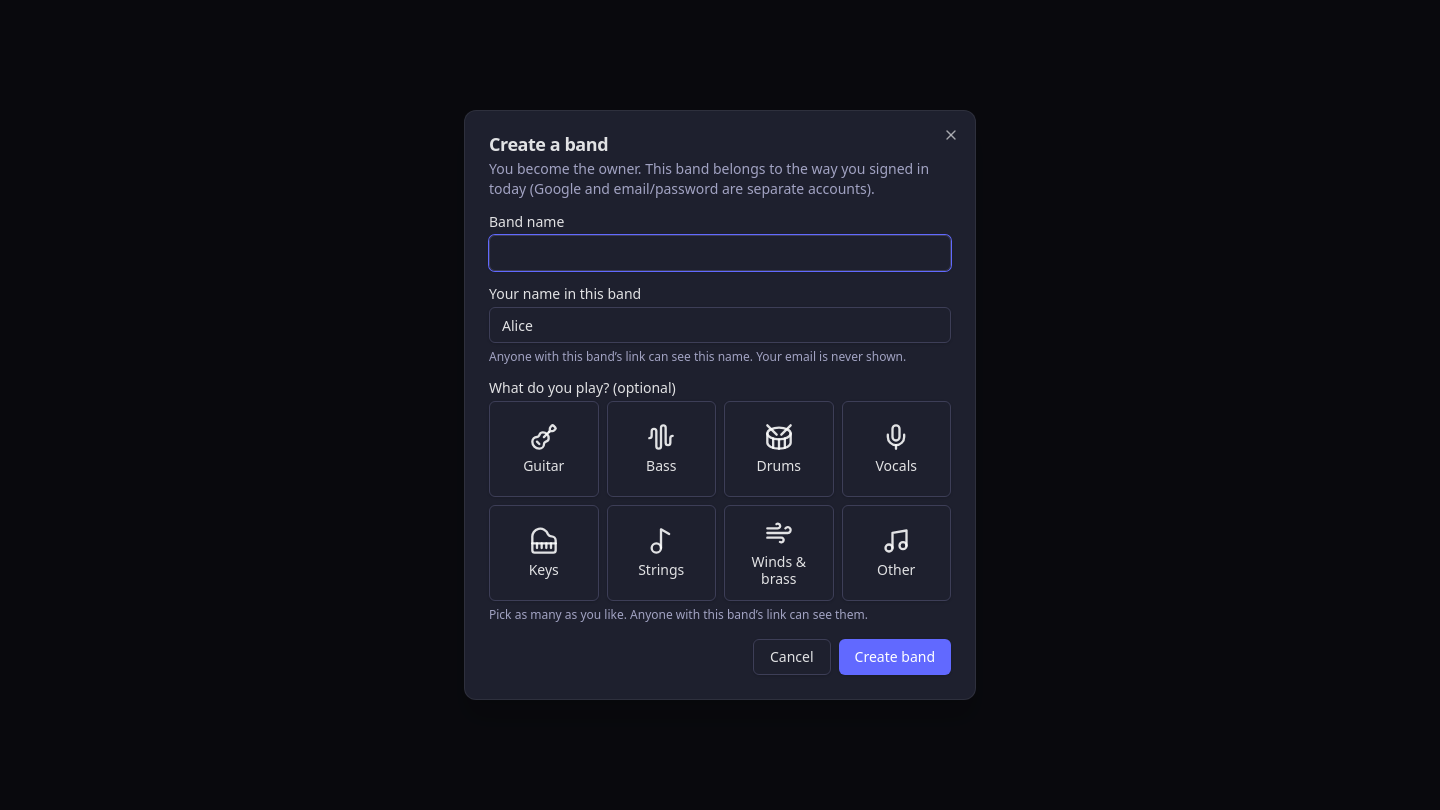
Scenario: CreateBandDialog › shows the failure inline and neither closes nor reports a band
Type "Another" into the field labelled "Band name" at x=720, y=253, box [489,235,951,271]
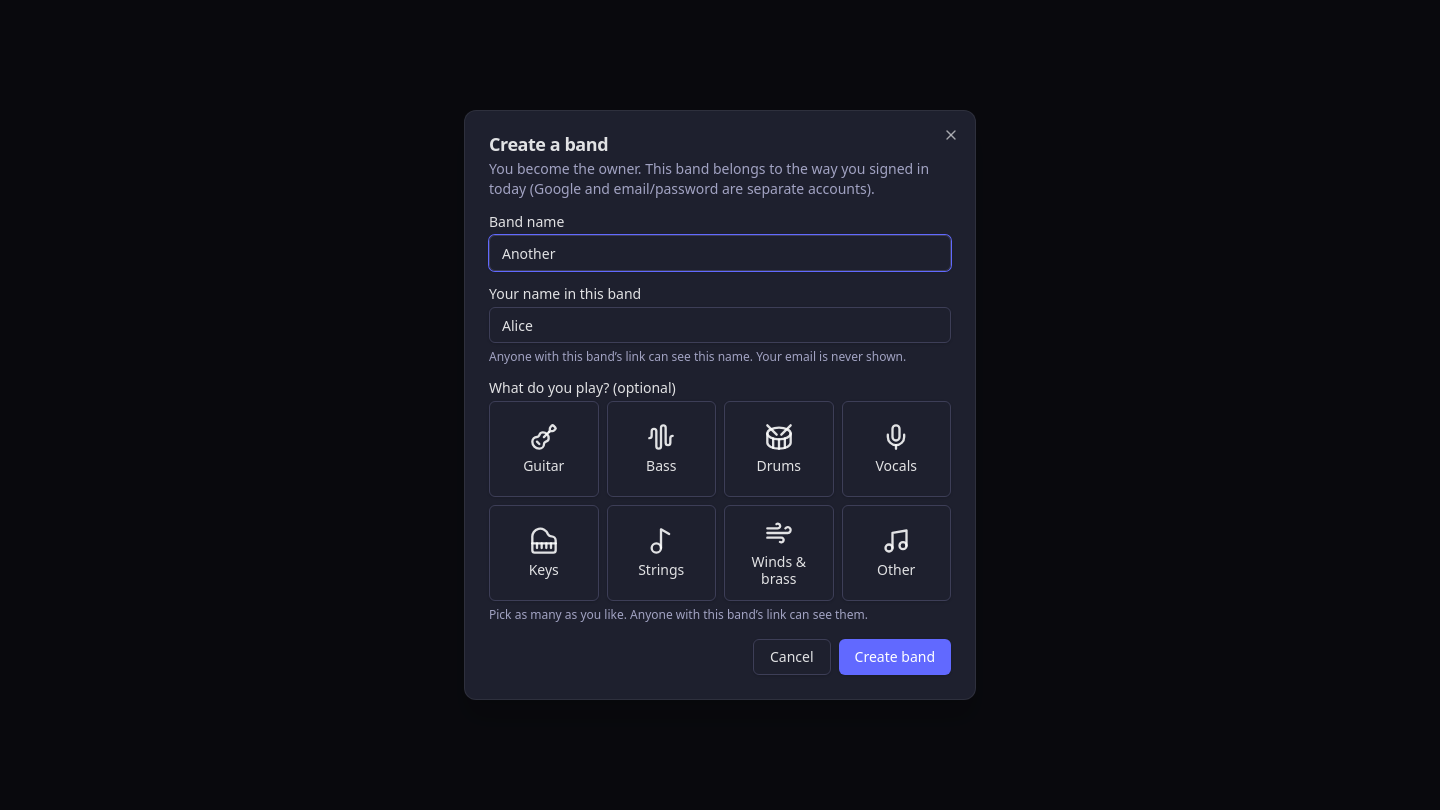
Click the button "Create band" at x=895, y=657, box [839,639,951,675]
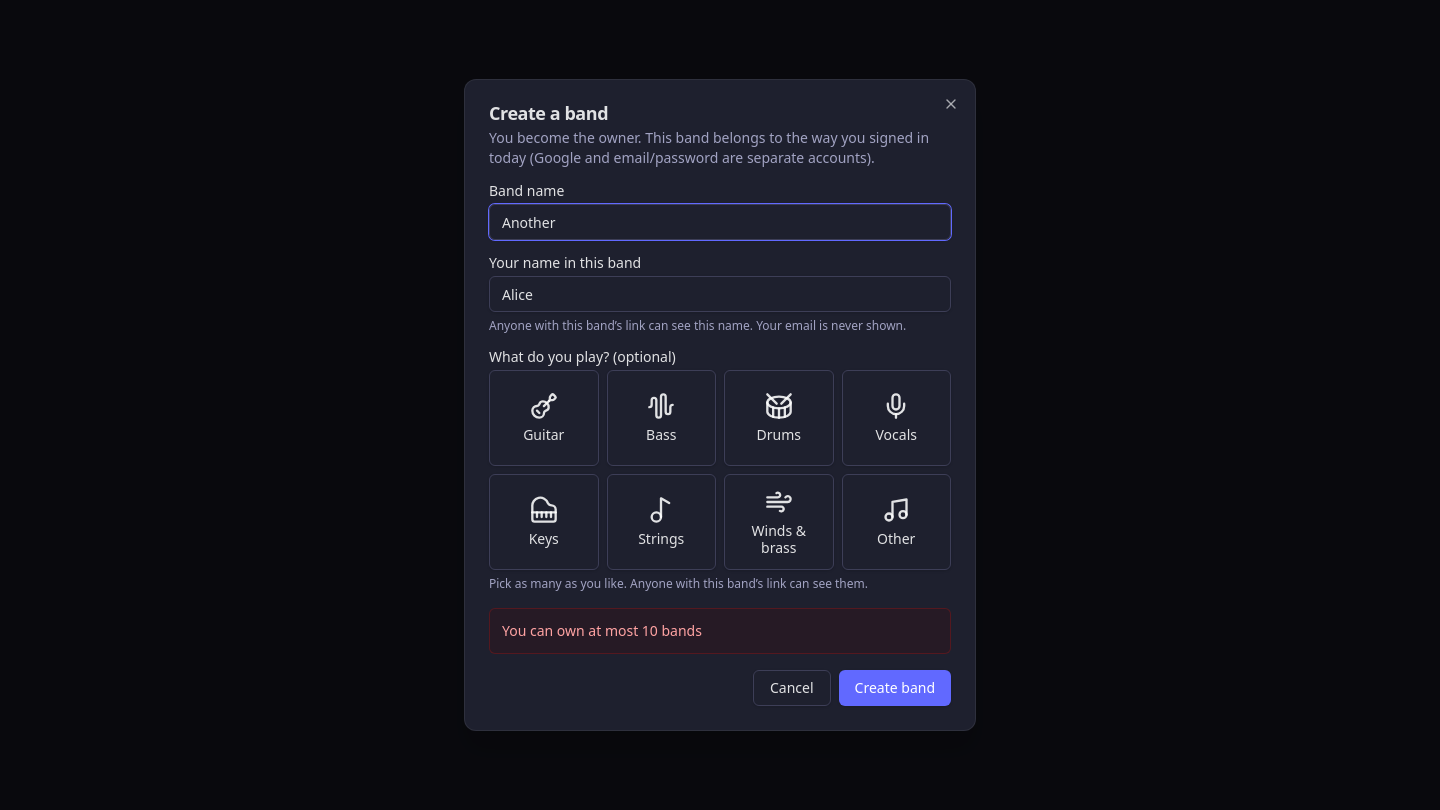
Check: the button "Create band" is enabled, box [839,670,951,706]
Check: the message reads "You can own at most 10 bands", box [502,621,702,640]
